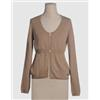maglia: (20, 16, 79, 96)
